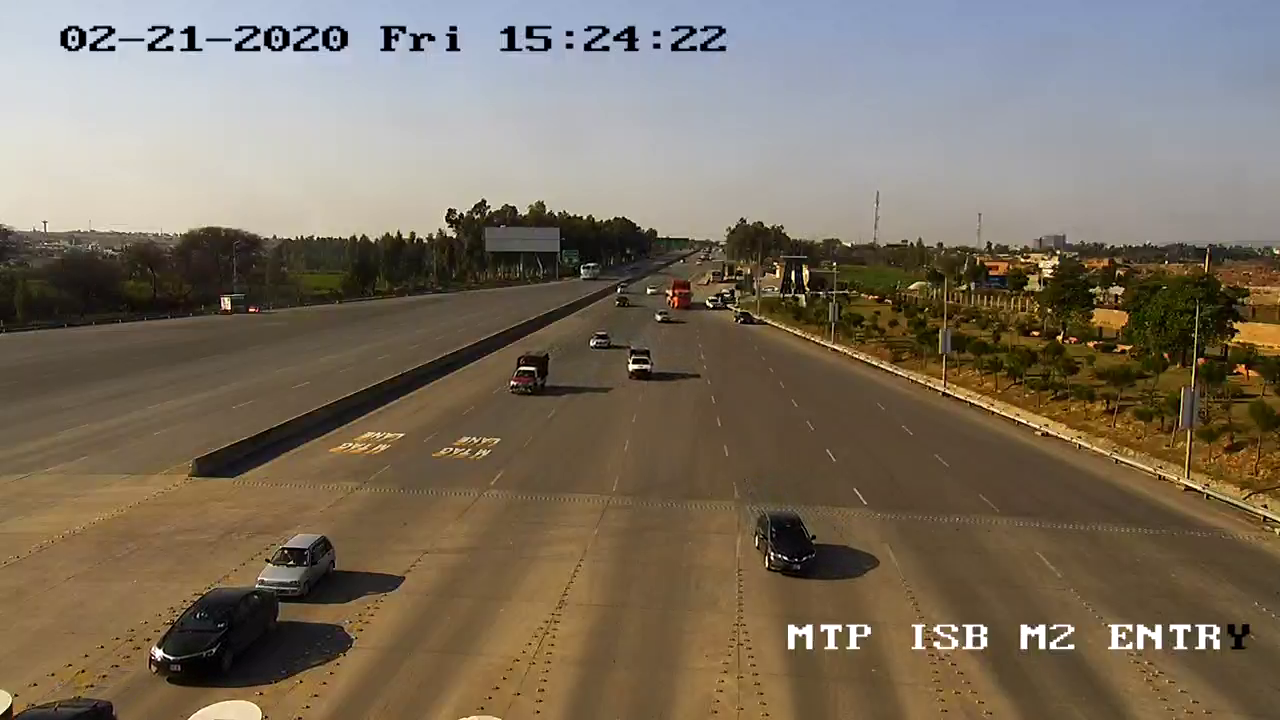f1: (147, 576, 283, 686), (249, 527, 347, 599), (749, 504, 824, 585)
